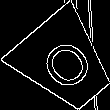O_SE: (31, 30, 98, 96)
